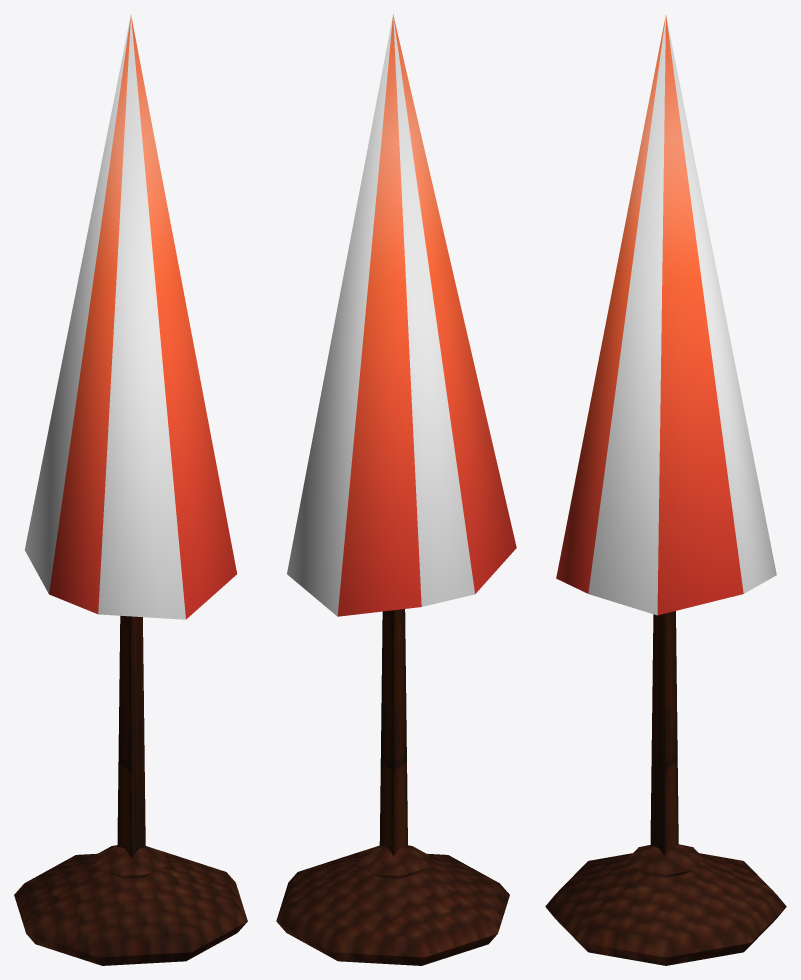
The model's file is Rattan_BeachUnmbrella_02_Folded.fbx.
3 renders of one model, left to right at view 1: azimuth 30°, elevation 25°; view 2: azimuth 150°, elevation 25°; view 3: azimuth 270°, elevation 25°, orthographic.
Visible parts, largest first — view 1: Rattan_BeachUnmbrella_02_Folded; view 2: Rattan_BeachUnmbrella_02_Folded; view 3: Rattan_BeachUnmbrella_02_Folded.
Part boxes in pixels (x1,y1,x2,y2): Rattan_BeachUnmbrella_02_Folded: (14, 15, 247, 965); Rattan_BeachUnmbrella_02_Folded: (276, 14, 516, 965); Rattan_BeachUnmbrella_02_Folded: (545, 15, 786, 965).
Size of the model in its own units: 0.2369 by 0.9791 by 0.2369.
